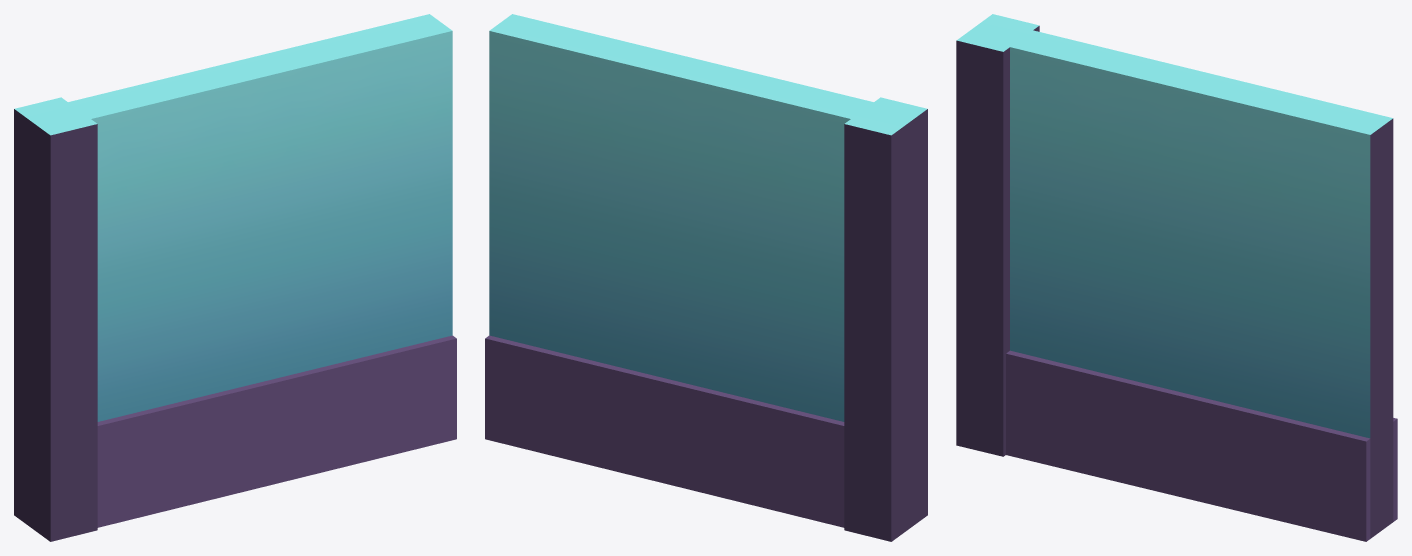
The model's file is M1_Wall_02_1.fbx.
3 views of the same model, side by side, from view 1: azimuth 30°, elevation 25°; view 2: azimuth 150°, elevation 25°; view 3: azimuth 330°, elevation 25° (orthographic).
Parts seen in each view (by area): view 1: M1_Wall_02_1; view 2: M1_Wall_02_1; view 3: M1_Wall_02_1.
Part boxes in pixels (x1,y1,x2,y2): M1_Wall_02_1: (14,14,456,541); M1_Wall_02_1: (485,14,927,541); M1_Wall_02_1: (956,14,1397,541).
Bounding box in the file's own units: 400 × 380 × 61.59.
